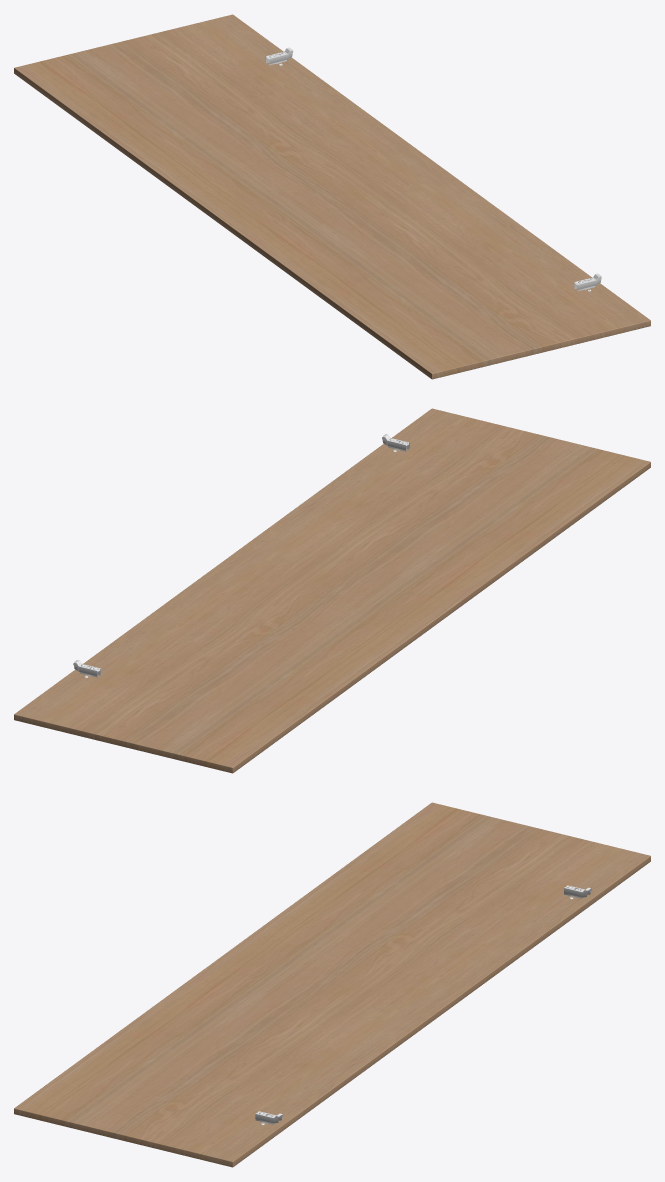
Rendered from SM_Kleiderschrank_TurRechts.obj.
3 renders of one model, top to bottom at view 1: azimuth 30°, elevation 25°; view 2: azimuth 150°, elevation 25°; view 3: azimuth 330°, elevation 25°, orthographic.
Visible parts, largest first — view 1: SM_Kleiderschrank_TurRechts; view 2: SM_Kleiderschrank_TurRechts; view 3: SM_Kleiderschrank_TurRechts.
Boxes of the visible parts, bbox=[...] form: SM_Kleiderschrank_TurRechts: bbox=[14, 14, 650, 379]; SM_Kleiderschrank_TurRechts: bbox=[14, 408, 650, 773]; SM_Kleiderschrank_TurRechts: bbox=[14, 802, 650, 1167].
Bounding box in the file's own units: 0.4993 × 0.0342 × 1.65.
